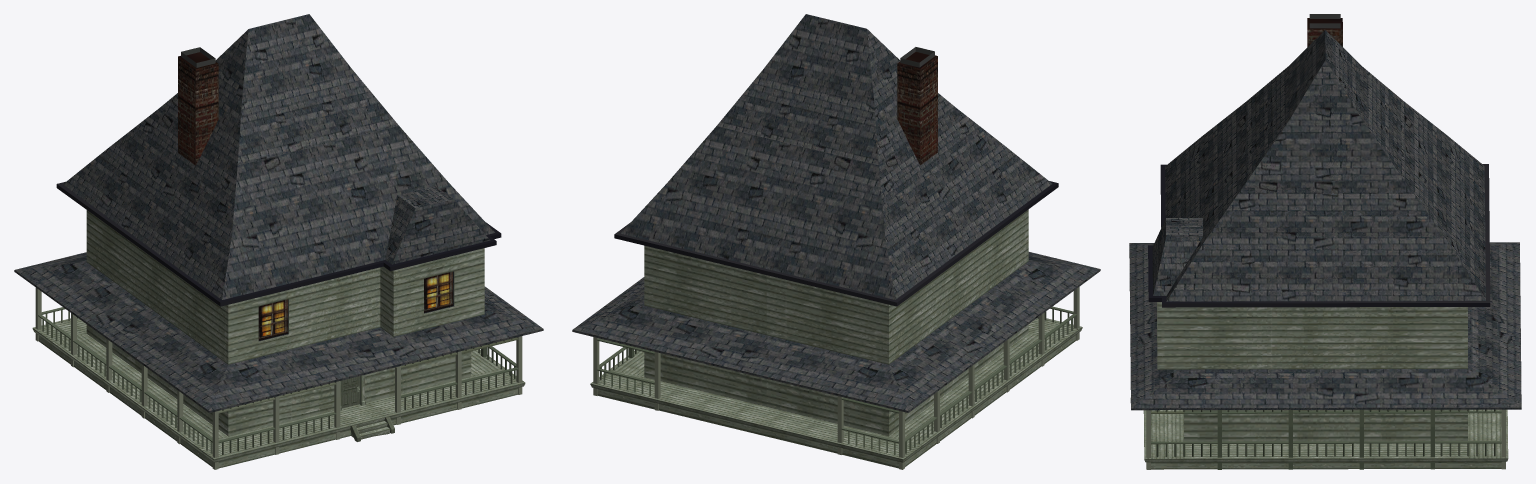
File: house1.glb
3 renders of one model, left to right at view 1: azimuth 30°, elevation 25°; view 2: azimuth 150°, elevation 25°; view 3: azimuth 270°, elevation 25°, orthographic.
Parts seen in each view (by area): view 1: Object_3, Object_2; view 2: Object_3, Object_2; view 3: Object_3, Object_2.
Part boxes in pixels (bbox=[...]): Object_3: bbox=[14, 14, 543, 469]; Object_2: bbox=[178, 52, 452, 441]; Object_3: bbox=[572, 14, 1100, 469]; Object_2: bbox=[897, 52, 937, 165]; Object_3: bbox=[1129, 14, 1521, 469]; Object_2: bbox=[1130, 18, 1342, 402].
Bounding box in the file's own units: 18.12 × 17.85 × 18.12.
Materials: 2 (2 with a texture image).
